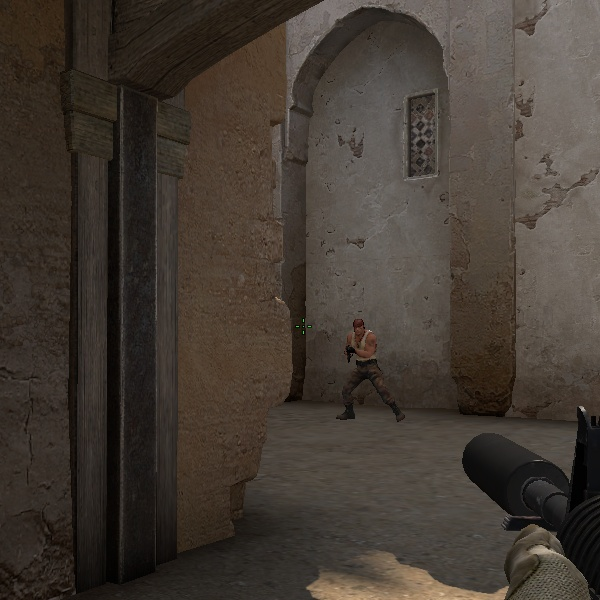t_body: (336, 316, 396, 421)
t_head: (352, 318, 366, 336)
